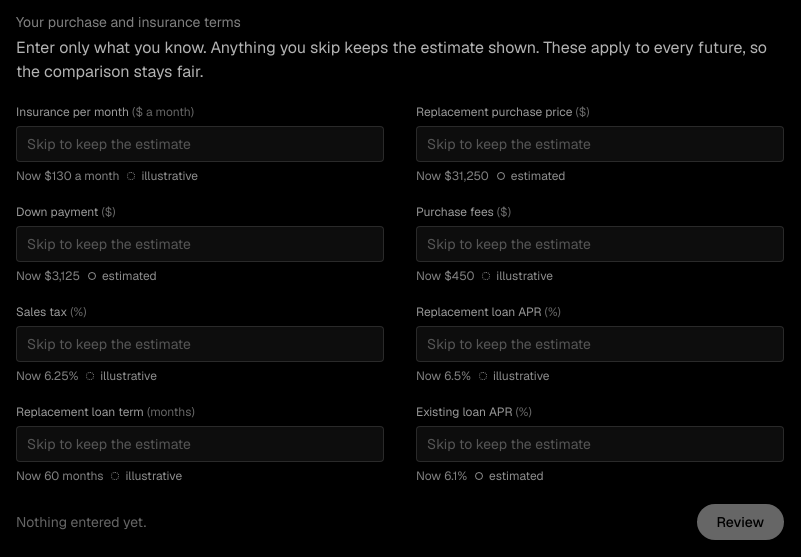
Test case: AssumptionsReview: entering terms › refuses what the shared validator refuses, with its words
Type "0" into the field labelled "Replacement loan term (months)". click: [200, 444]
box: [16, 426, 384, 462]
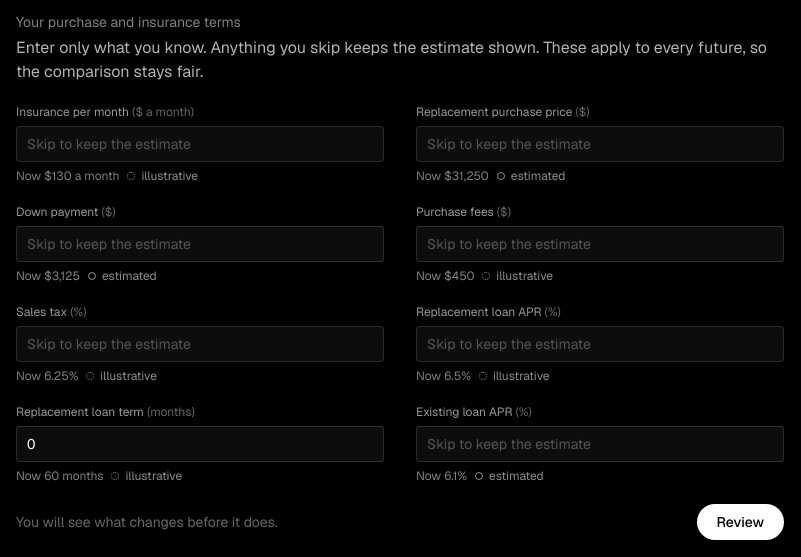
Click the button "Review". click: [740, 522]
box: [696, 504, 784, 540]
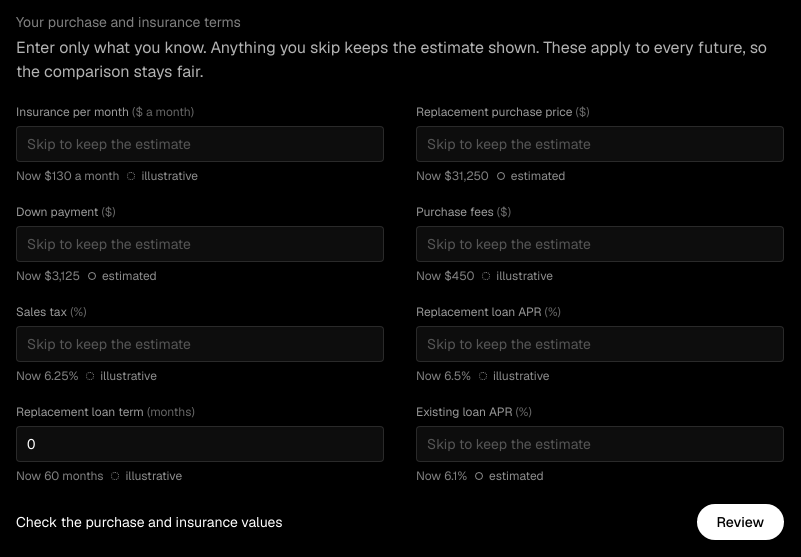
Check: the message with test id "terms-problem" reads "Check the purchase and insurance values", box [16, 513, 283, 531]
